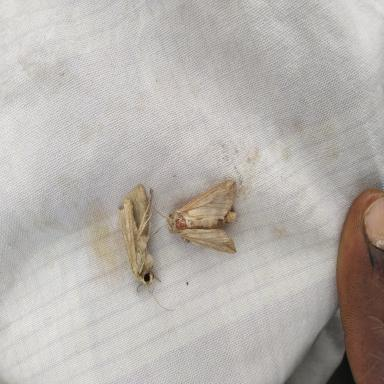abw: (115, 182, 179, 312), (149, 179, 238, 255)
